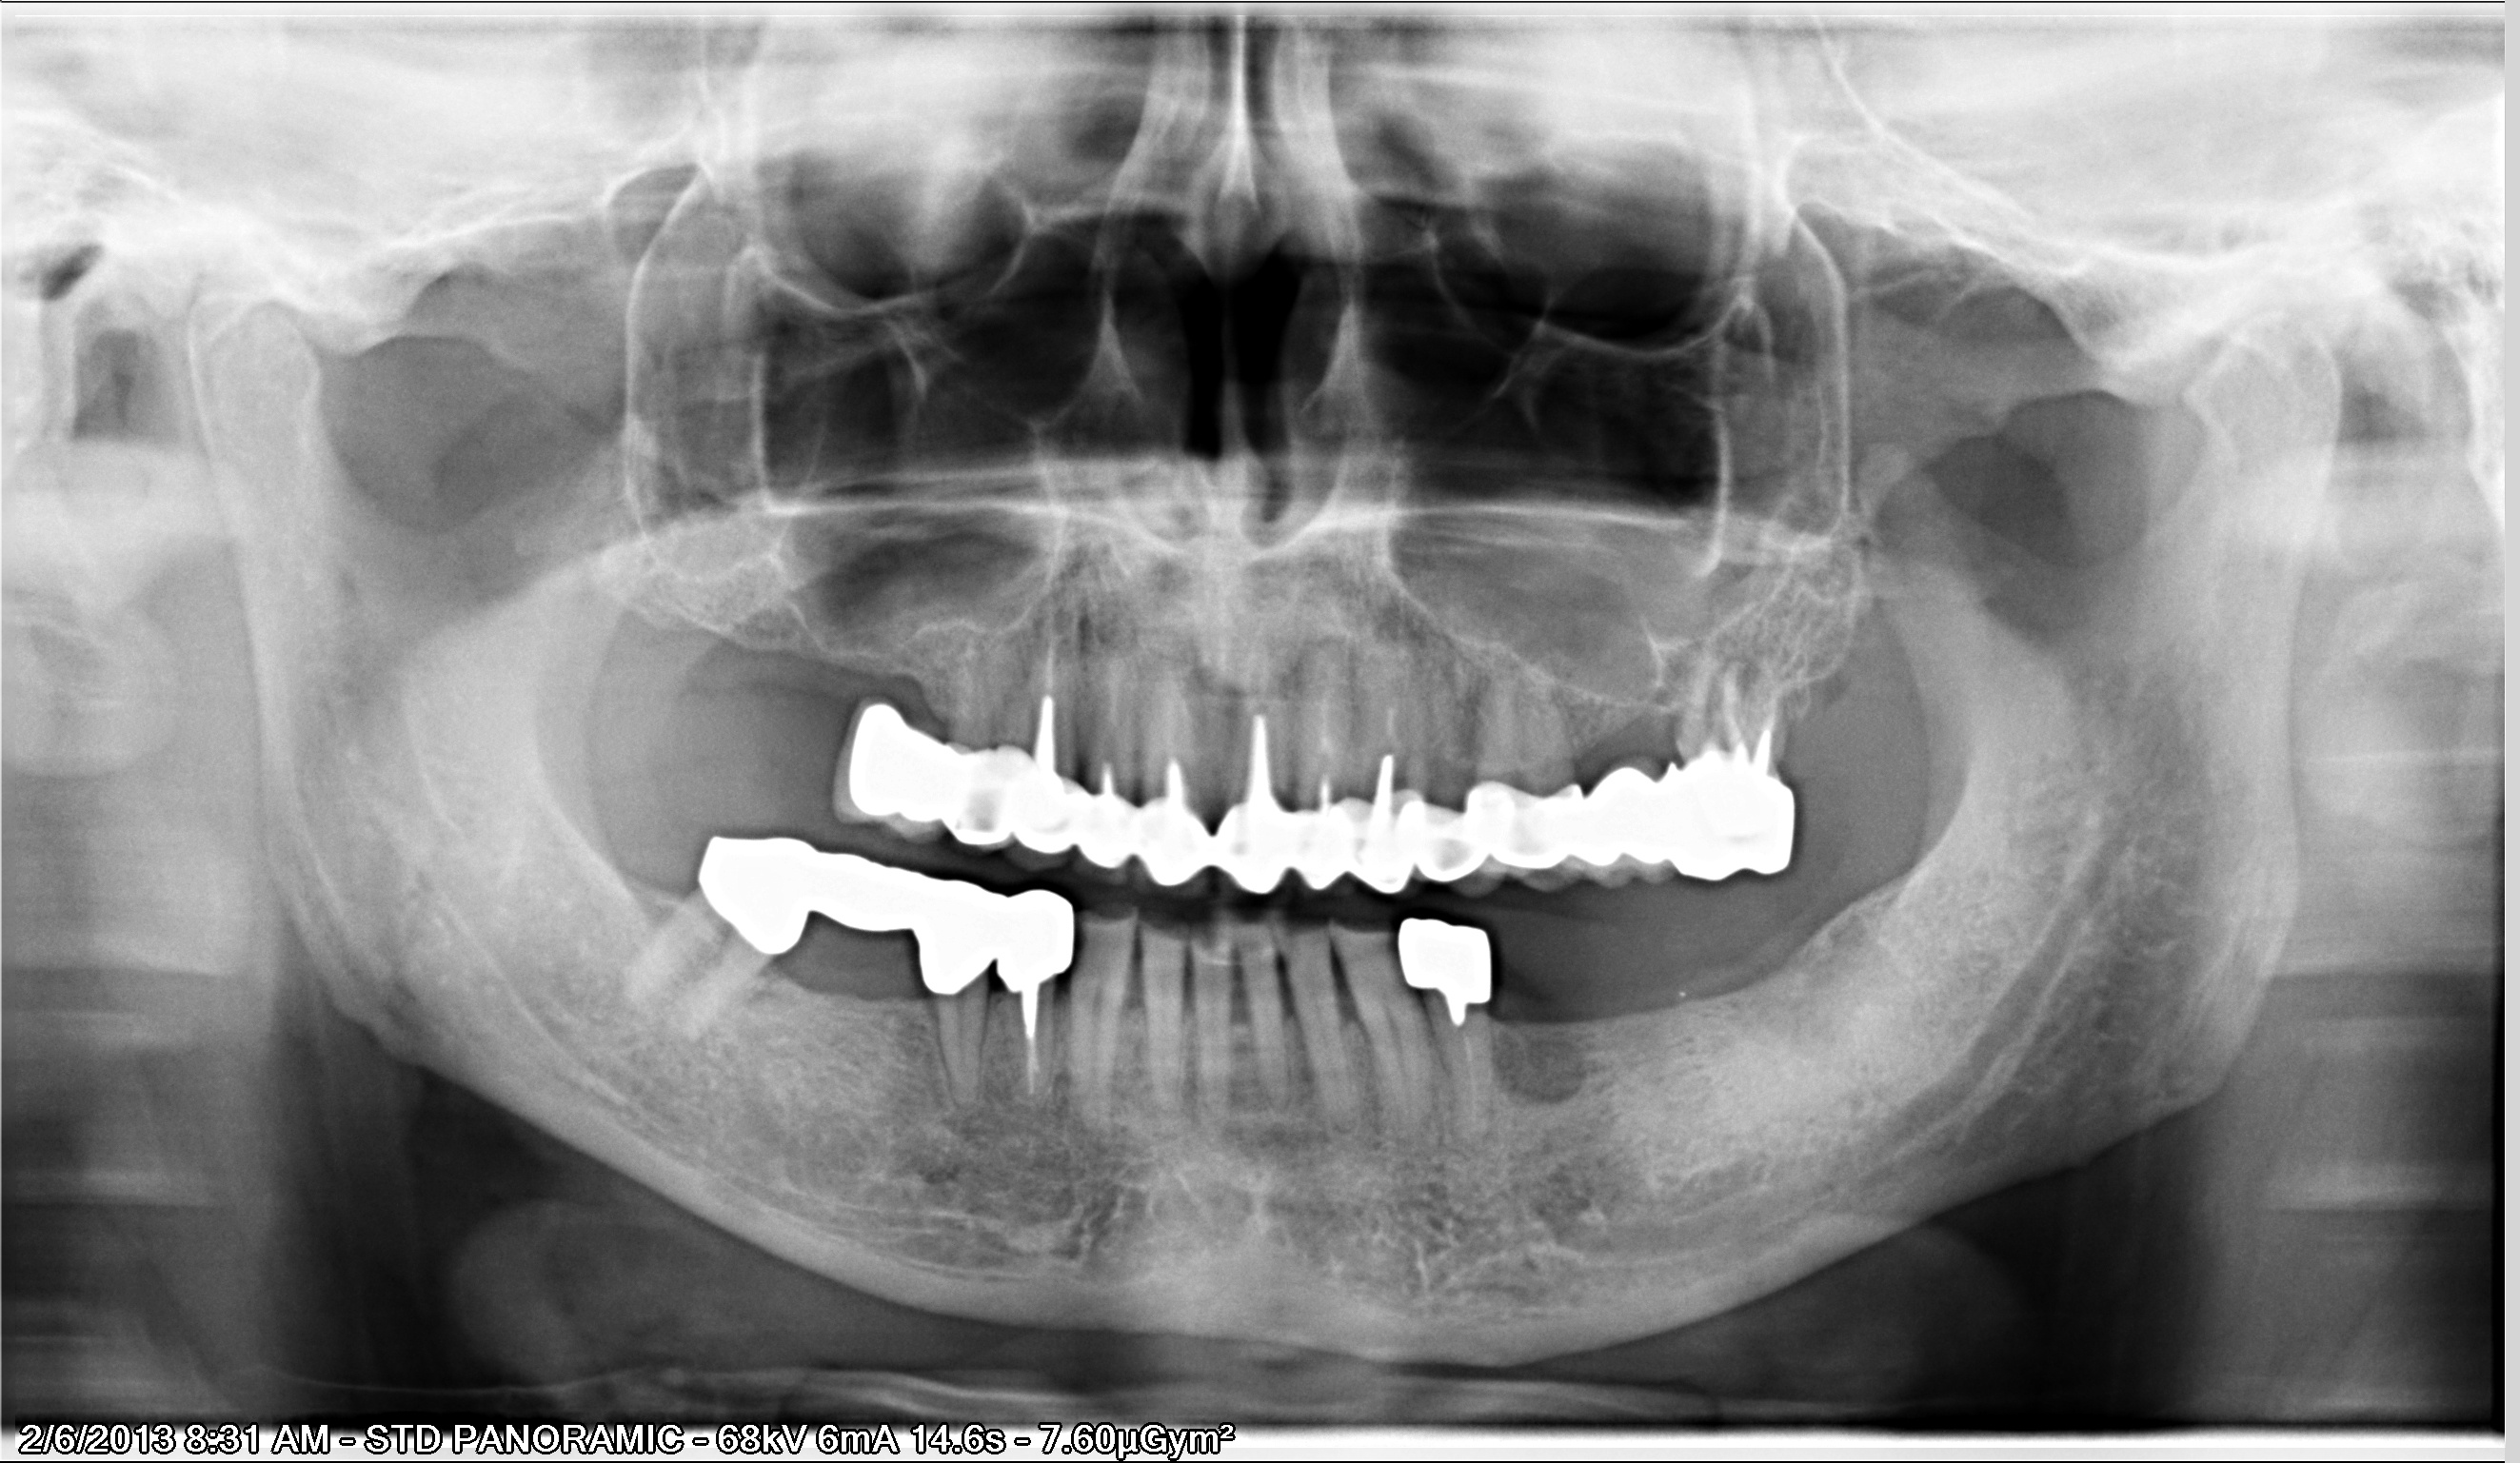CAR: (1451, 986, 1520, 1035)
END: (1689, 634, 1818, 752), (1135, 630, 1207, 777), (1014, 582, 1083, 695), (1287, 653, 1350, 779), (1440, 1026, 1506, 1144), (1076, 644, 1144, 751), (1000, 1028, 1073, 1113)
PRR: (813, 667, 1820, 904), (672, 808, 1090, 1033), (1385, 904, 1503, 1026)
